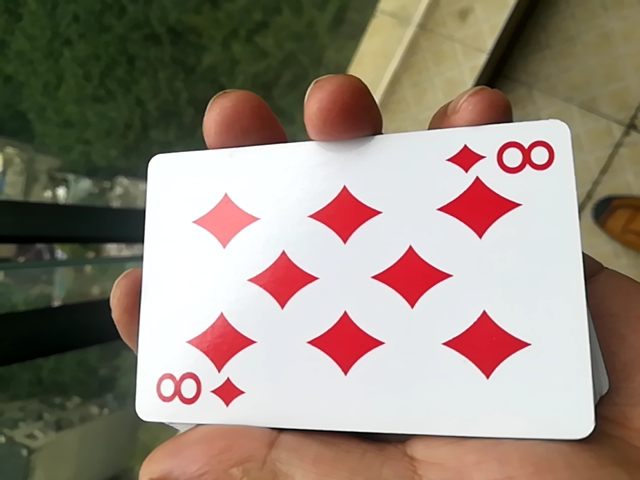fk 8: (117, 131, 585, 454)
